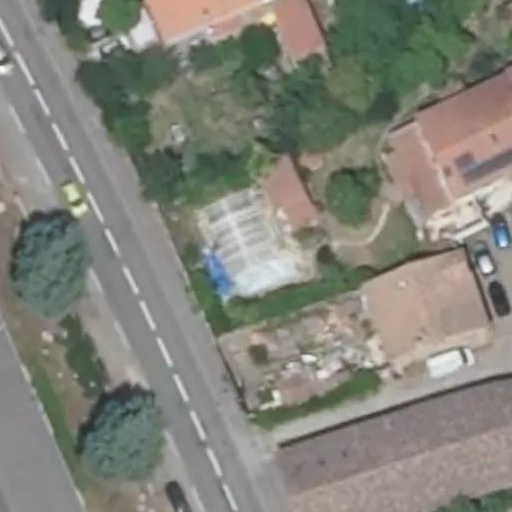pool: (204, 206, 306, 270)
